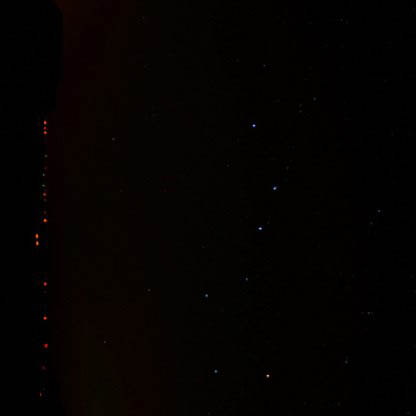Ursa Major: (206, 355, 227, 379), (269, 177, 286, 203), (242, 113, 263, 134), (250, 216, 271, 237), (241, 266, 263, 282), (199, 279, 213, 304), (260, 369, 273, 384)
